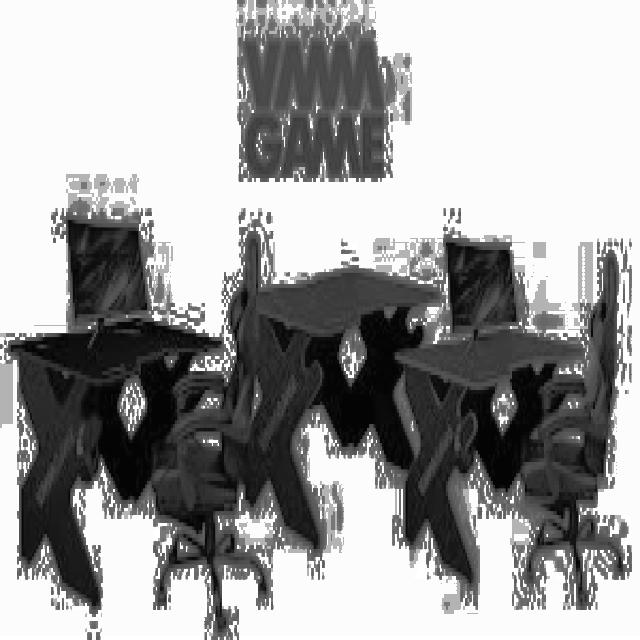book: (518, 250, 623, 606)
table: (6, 314, 222, 610)
